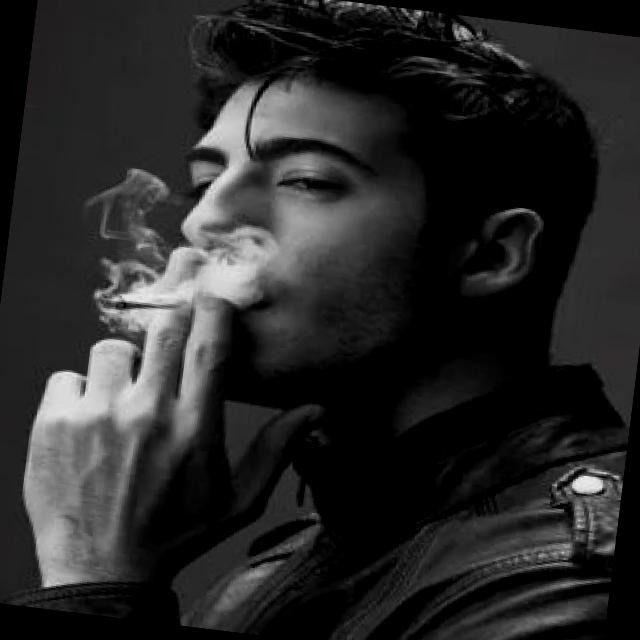cigarette: (91, 278, 190, 328)
